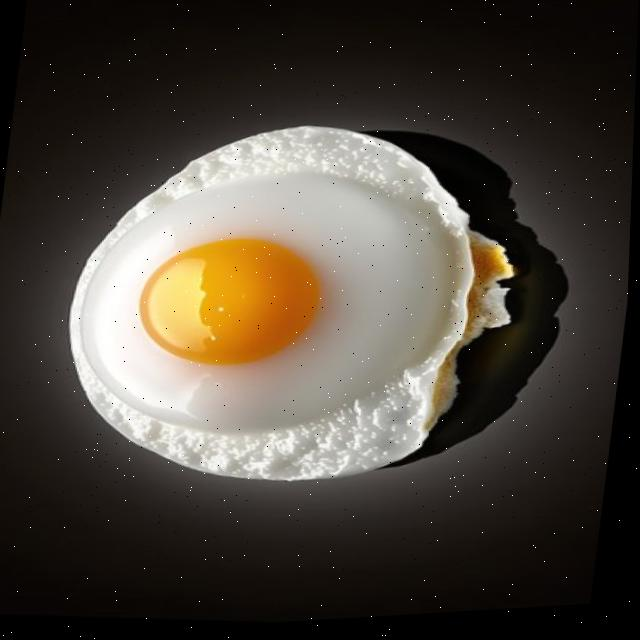Egg: (72, 129, 515, 482)
